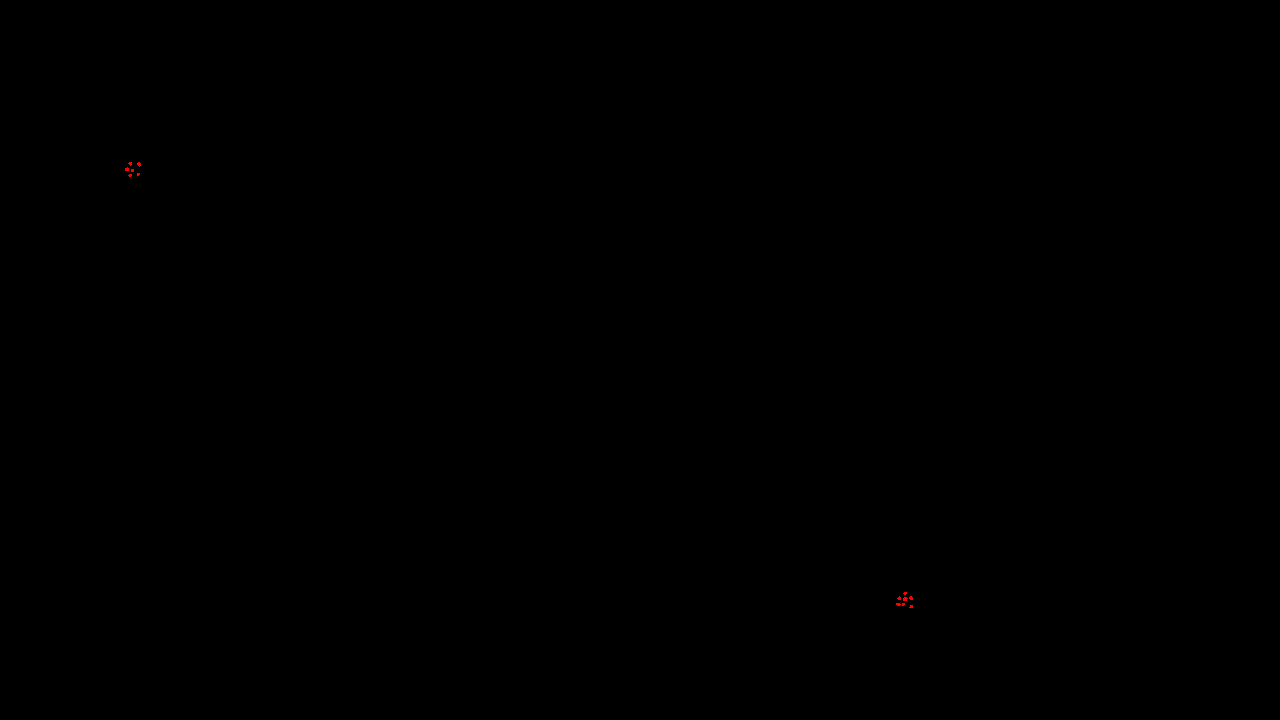Target: (137, 162, 141, 167), (903, 597, 908, 601), (128, 162, 132, 166), (125, 167, 129, 171), (897, 596, 901, 600), (909, 596, 913, 600), (896, 603, 901, 606), (128, 174, 132, 177), (903, 592, 907, 595), (909, 605, 913, 608), (131, 169, 134, 172), (137, 173, 140, 176), (902, 603, 905, 606)
